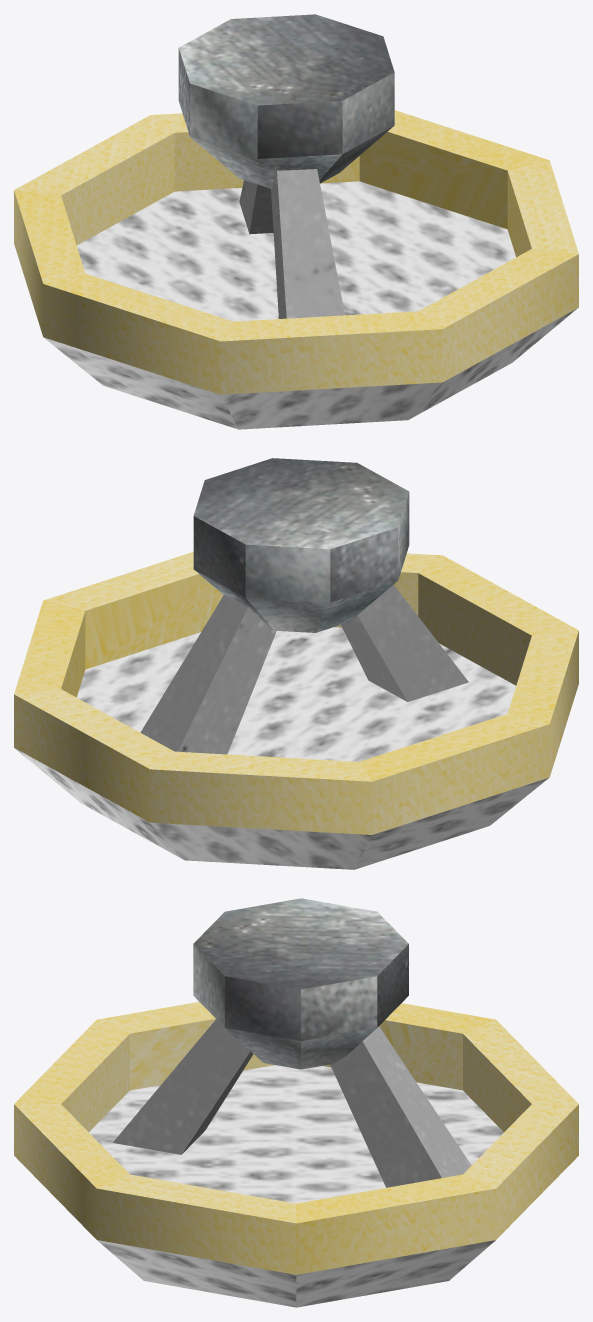
File: lamp1.FBX
3 renders of one model, top to bottom at view 1: azimuth 30°, elevation 25°; view 2: azimuth 150°, elevation 25°; view 3: azimuth 270°, elevation 25°, orthographic. The views are drawn at different scales.
Parts seen in each view (by area): view 1: Object002, Cylinder001, Cylinder002, Object001; view 2: Object002, Cylinder001, Cylinder002, Object001; view 3: Object002, Cylinder001, Cylinder002, Object001.
Boxes of the visible parts, box(x1,y1,x2,y2) form: Object002: box(14, 110, 578, 394); Cylinder001: box(44, 181, 577, 429); Cylinder002: box(178, 14, 394, 188); Object001: box(239, 169, 344, 318); Object002: box(14, 552, 578, 834); Cylinder001: box(15, 627, 548, 869); Cylinder002: box(193, 458, 409, 632); Object001: box(140, 584, 468, 754); Object002: box(14, 1002, 578, 1274); Cylinder001: box(89, 1065, 503, 1307); Cylinder002: box(193, 898, 408, 1069); Object001: box(113, 1019, 471, 1187).
Bounding box in the file's own units: 54.42 × 28.6 × 54.42.
Materials: 4 (4 with a texture image).
